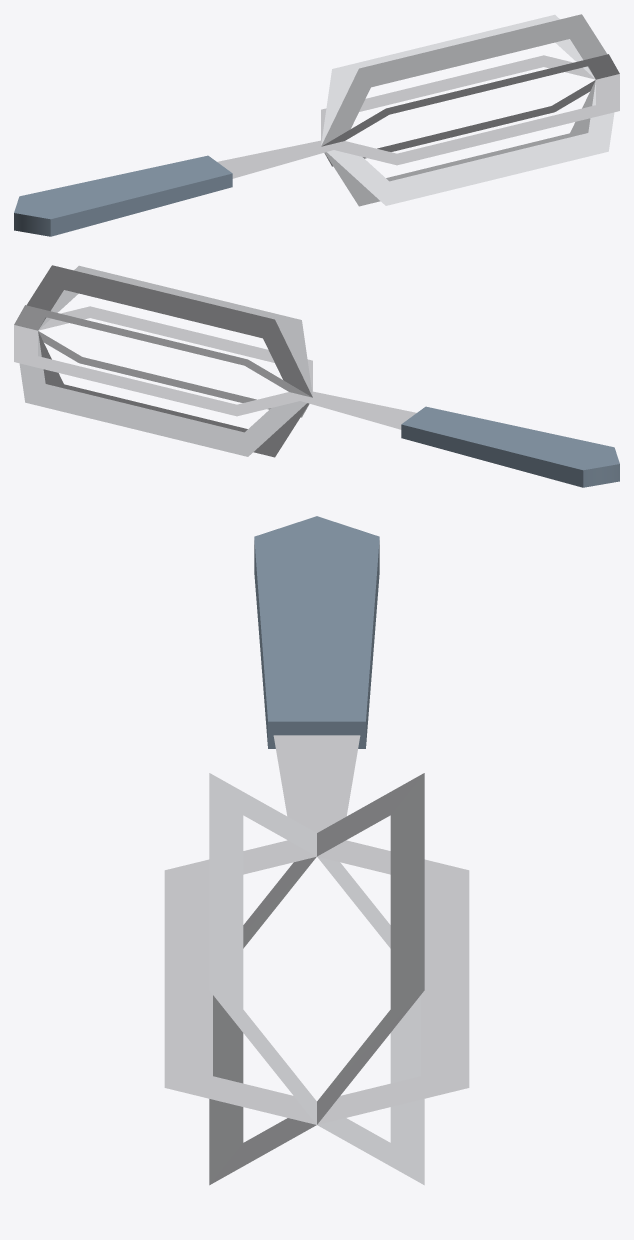
Rendered from whisk.GLB.
3 views of the same model, one above another, from view 1: azimuth 30°, elevation 25°; view 2: azimuth 150°, elevation 25°; view 3: azimuth 270°, elevation 25° (orthographic). The views are drawn at different scales.
Visible parts, largest first — view 1: whisk; view 2: whisk; view 3: whisk.
Boxes of the visible parts, box(x1,y1,x2,y2) form: whisk: box(14, 14, 619, 236); whisk: box(14, 265, 619, 487); whisk: box(164, 516, 469, 1185).
Size of the model in its own units: 0.7244 by 0.1576 by 0.1576.
